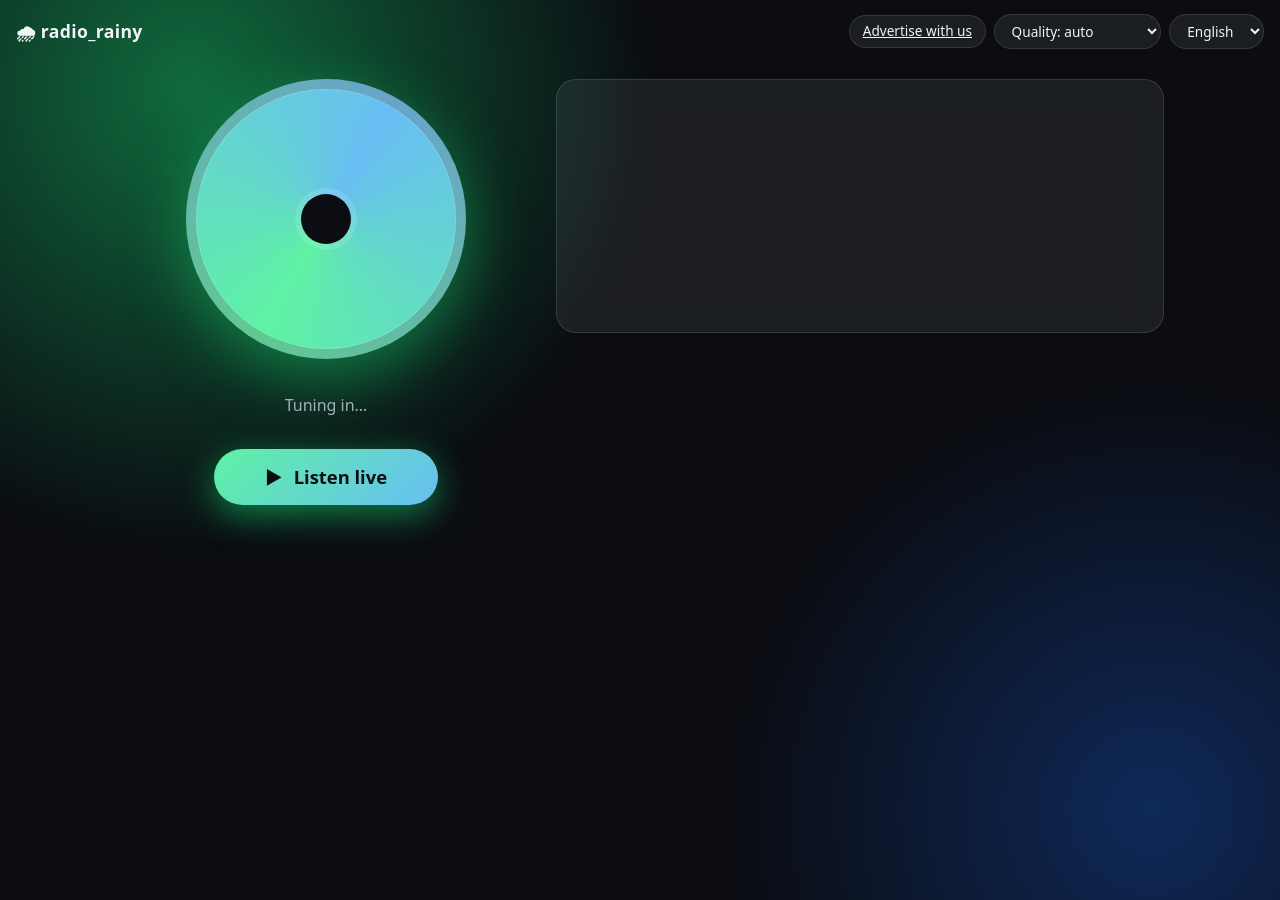
<Player /> data-saver quality › plays the normal stream by default and the low one when chosen (remembered)
Click the button "▶ Listen live" at (326, 477), box [214,449,438,505]
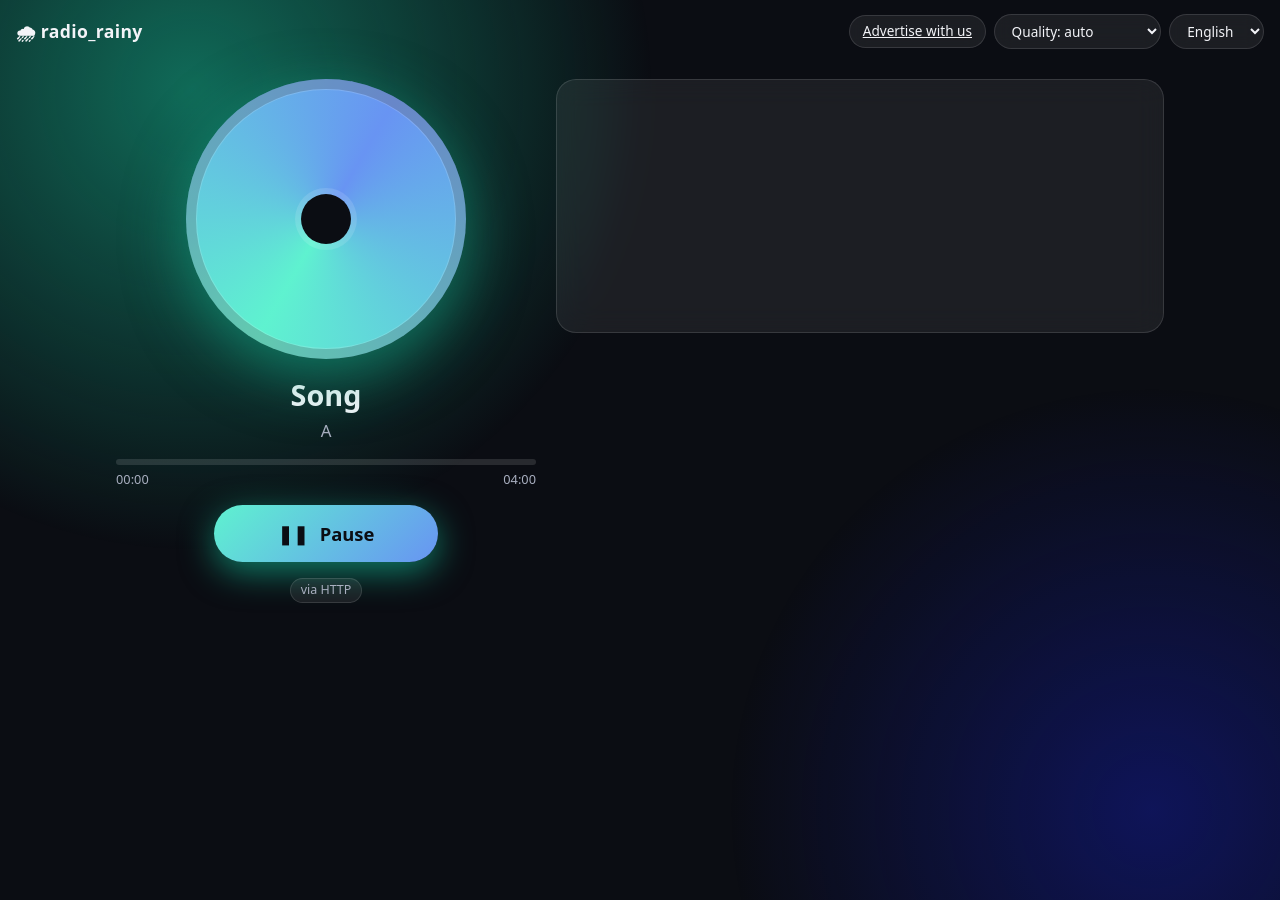
Select "Quality: data saver" in the dropdown named "Quality" at (1078, 32), box [994,14,1161,49]
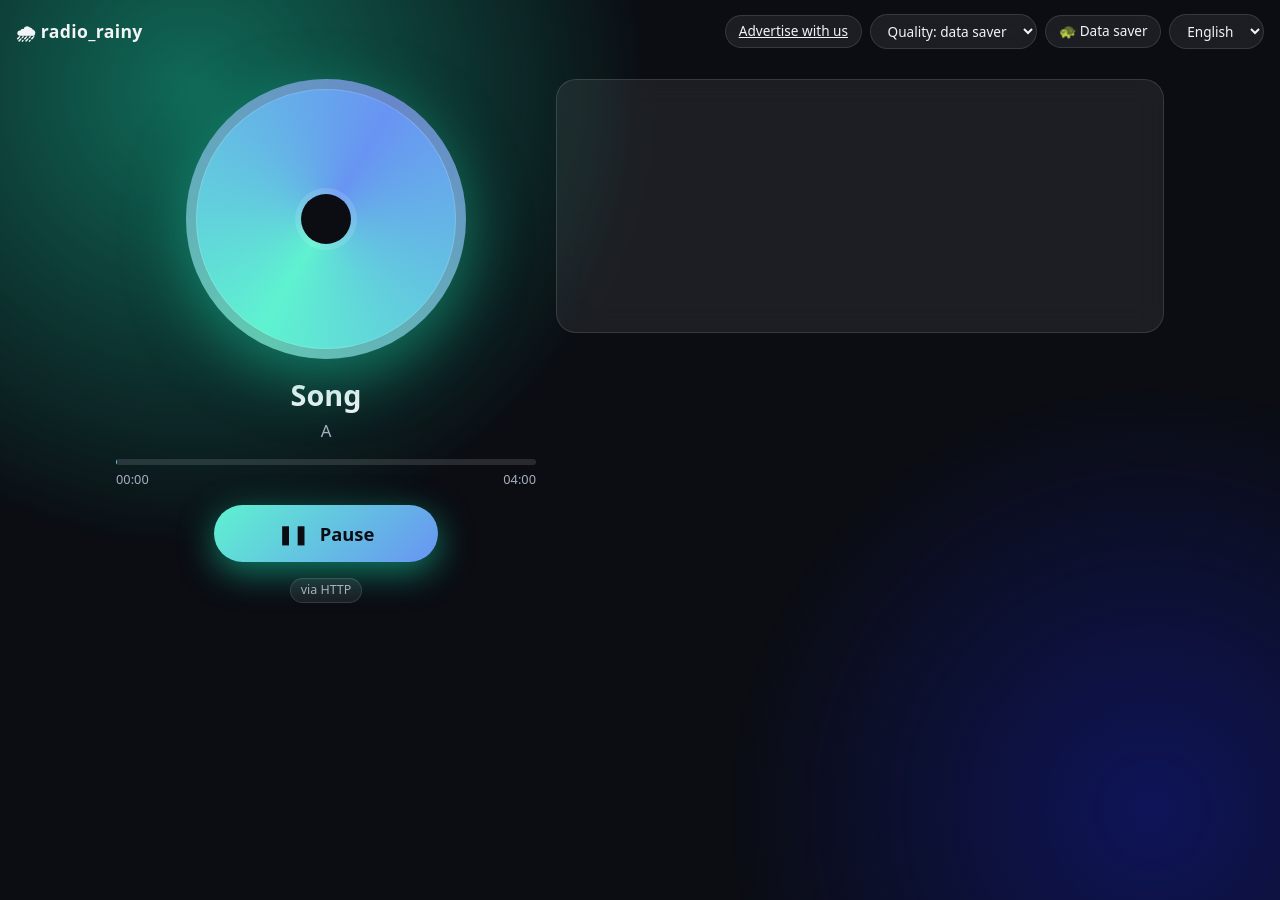
Now the text "🐢 Data saver" is shown, box [1045,15,1161,48]
